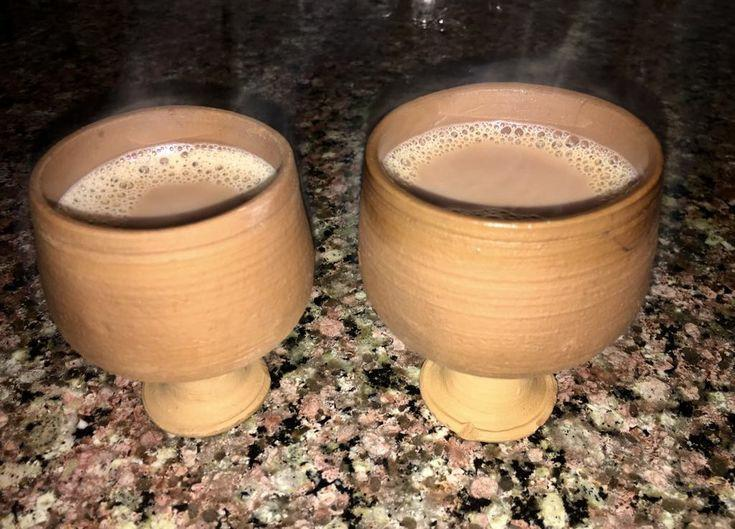Chai: (386, 119, 642, 204), (56, 148, 280, 224)
